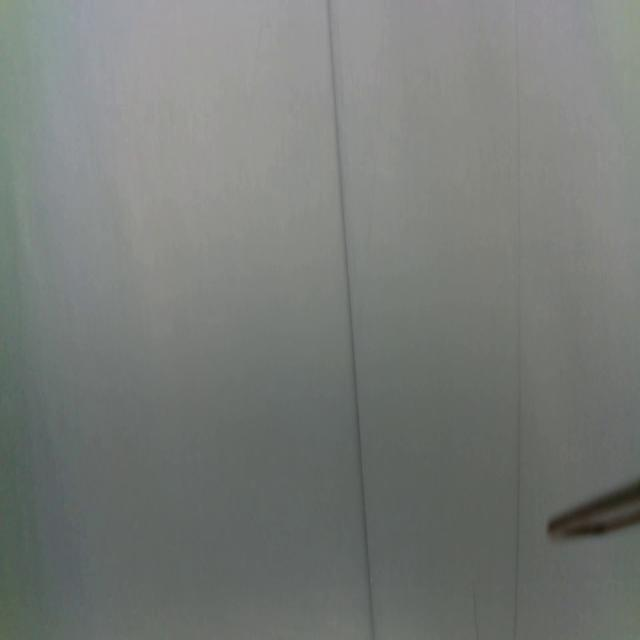crease: (327, 0, 376, 640), (510, 0, 521, 640)
